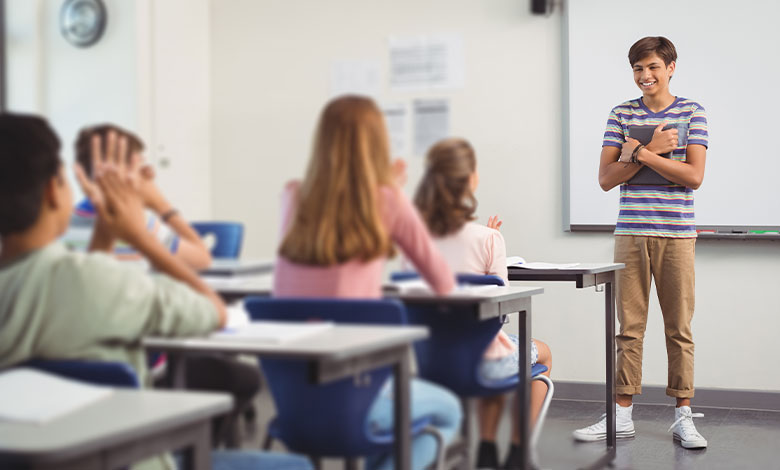Person: (1, 117, 192, 387), (595, 31, 713, 455), (280, 102, 421, 422), (427, 134, 510, 278)
